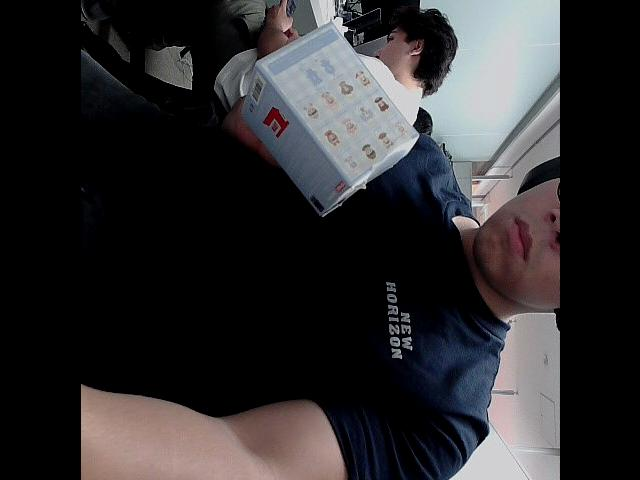Blind_box: (238, 23, 420, 227)
